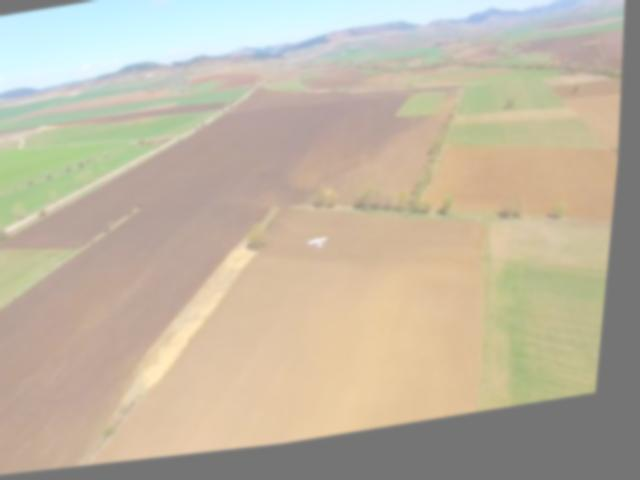uav: (309, 235, 336, 262)
